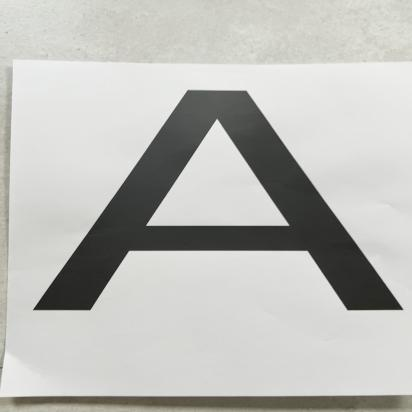seat: (8, 72, 412, 335)
